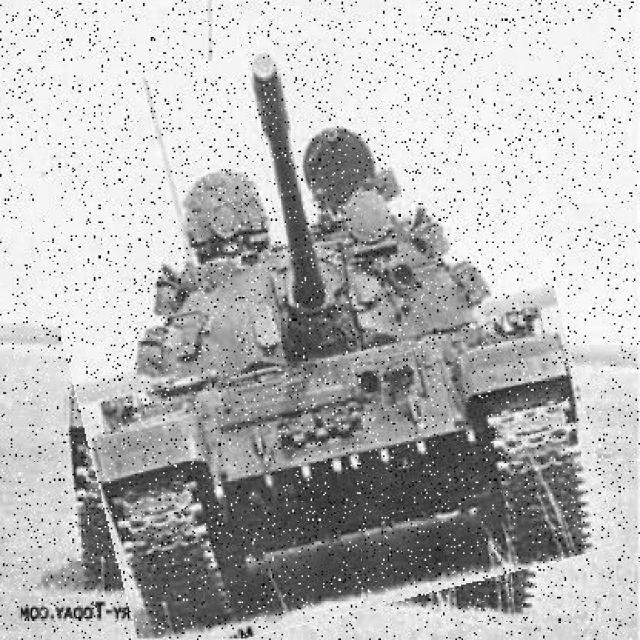Tank: (38, 19, 589, 638)
